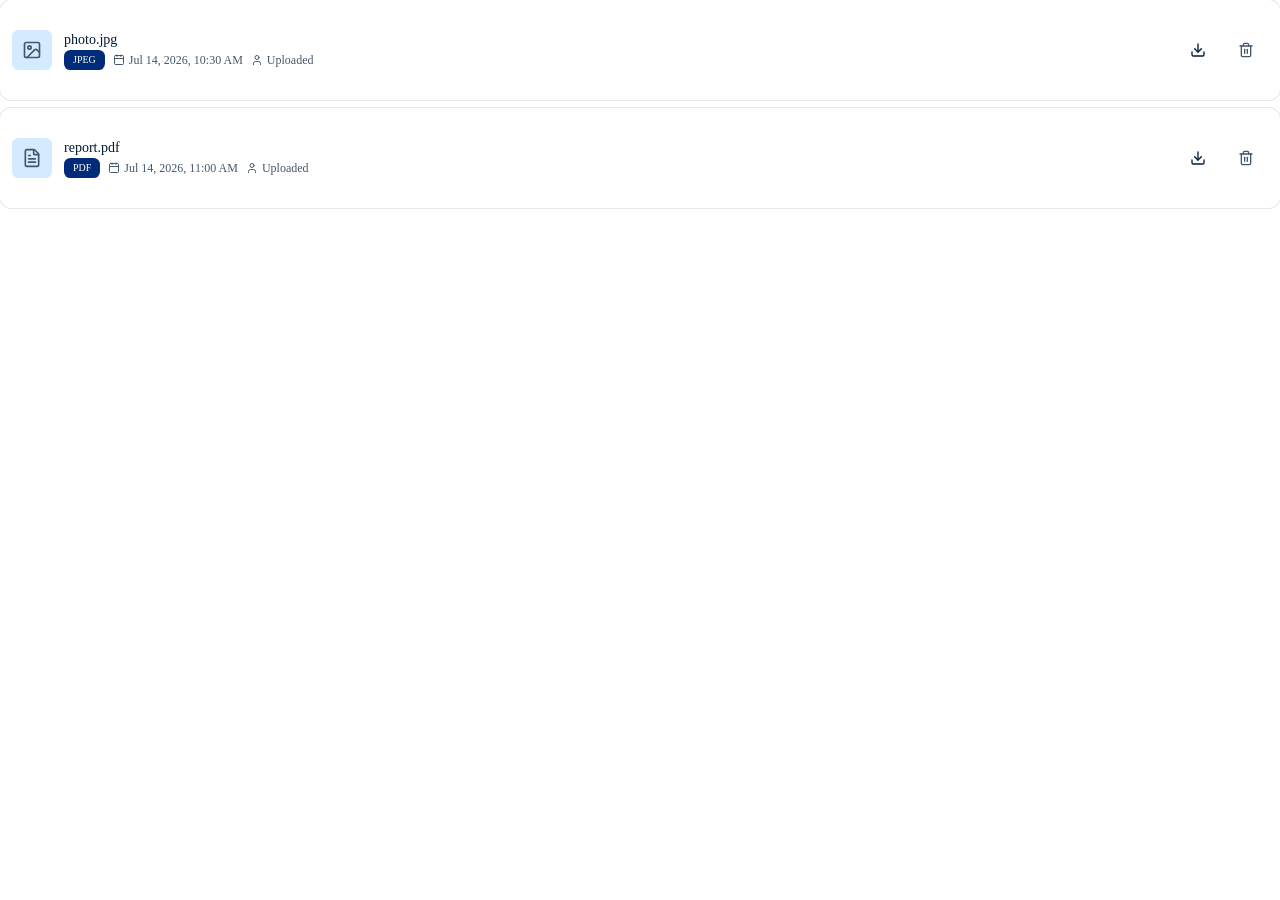
Test case: AttachmentList component › shows confirmation dialog on delete click
Click the button named "Delete photo.jpg".
click(1246, 50)  # box x1=1224 y1=28 x2=1268 y2=72
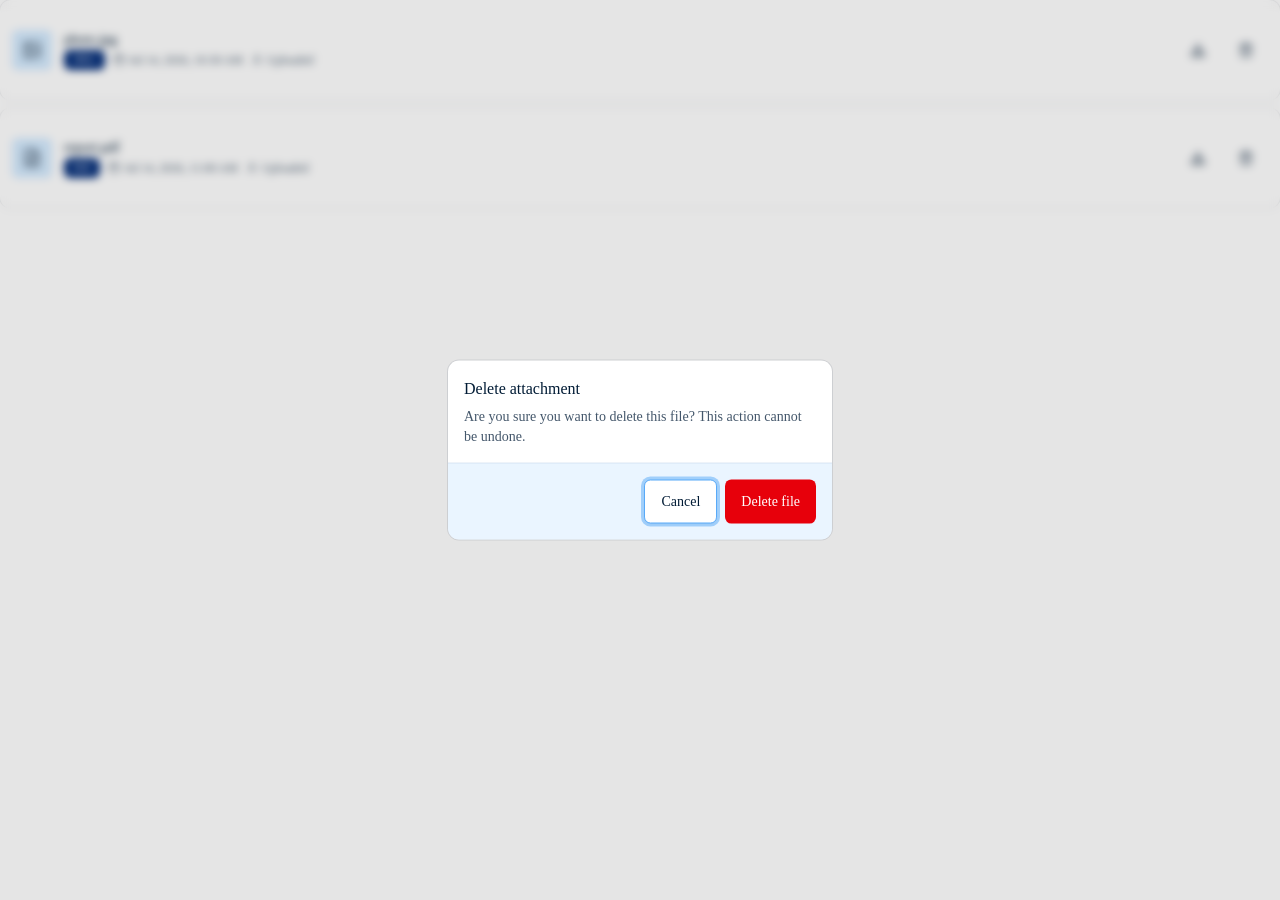
Check: the dialog is shown, box x1=448 y1=360 x2=832 y2=540
Check: the dialog shows "Delete attachment", box x1=464 y1=380 x2=580 y2=396
Check: the dialog shows "Are you sure you want to delete this file?", box x1=464 y1=408 x2=802 y2=444
